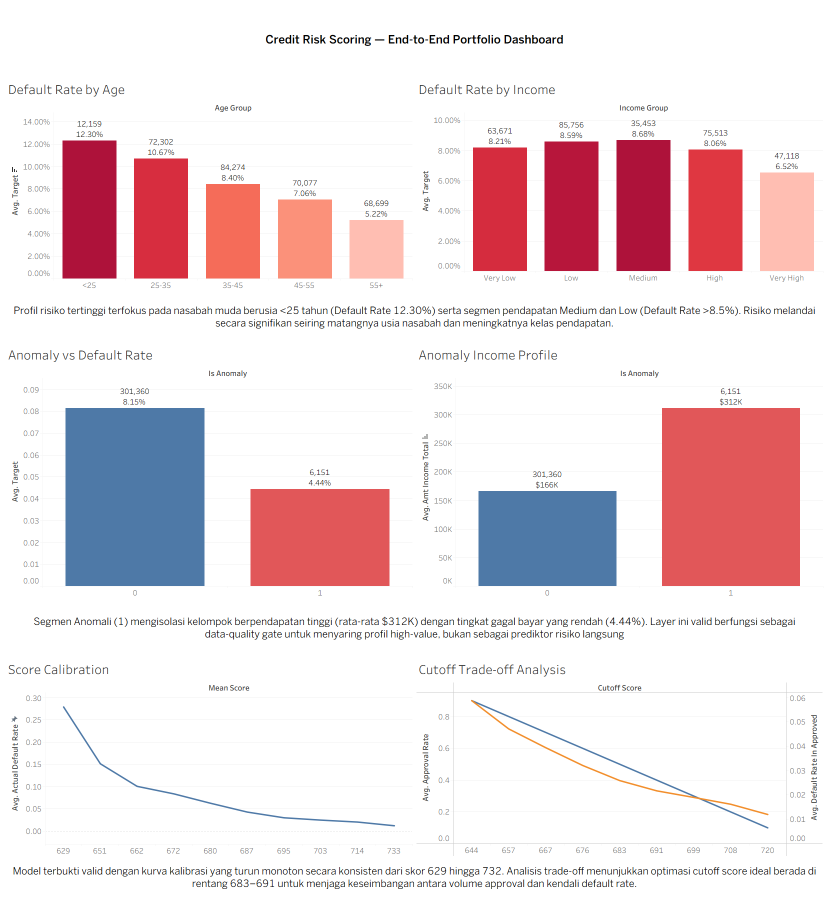

The dashboard page shown, as its layout file describes it:
{"tool":"tableau","page":{"name":"Credit Risk Dashboard","canvas":[1658,1800],"ordinal":1},"visuals":[{"type":"text","box":[8,8,1642,143.4]},{"type":"worksheet","title":"Default Rate by Age","mark":"Automatic","rows":["TARGET"],"cols":["AGE_GROUP"],"box":[8,151.4,821,434.6]},{"type":"worksheet","title":"Default Rate by Income","mark":"Automatic","rows":["TARGET"],"cols":["INCOME_GROUP"],"box":[829,151.4,821,434.6]},{"type":"text","box":[8,586,1642,96]},{"type":"worksheet","title":"Anomaly vs Default Rate","mark":"Bar","rows":["TARGET"],"cols":["IS_ANOMALY"],"box":[8,682,821,519]},{"type":"worksheet","title":"Anomaly Income Profile","mark":"Bar","rows":["AMT_INCOME_TOTAL"],"cols":["IS_ANOMALY"],"box":[829,682,821,519]},{"type":"text","box":[8,1201,1642,110]},{"type":"worksheet","title":"Score Calibration","mark":"Line","rows":["actual_default_rate"],"cols":["mean_score"],"box":[8,1311,821,406.5]},{"type":"worksheet","title":"Cutoff Trade-off Analysis","mark":"Line","rows":["approval_rate","default_rate_in_approved"],"cols":["cutoff_score"],"box":[829,1311,821,406.5]},{"type":"text","box":[8,1717.5,1642,74.6]}]}

Visuals, with their boxes in screenshot pixels (x1, y1, x2, y2), scaled from the page's 1658x1800 canvas onto the 829x900 screenshot:
text: l=4, t=4, r=825, b=76
"Default Rate by Age" worksheet: l=4, t=76, r=414, b=293
"Default Rate by Income" worksheet: l=414, t=76, r=825, b=293
text: l=4, t=293, r=825, b=341
"Anomaly vs Default Rate" worksheet (Bar marks): l=4, t=341, r=414, b=600
"Anomaly Income Profile" worksheet (Bar marks): l=414, t=341, r=825, b=600
text: l=4, t=600, r=825, b=656
"Score Calibration" worksheet (Line marks): l=4, t=656, r=414, b=859
"Cutoff Trade-off Analysis" worksheet (Line marks): l=414, t=656, r=825, b=859
text: l=4, t=859, r=825, b=896
